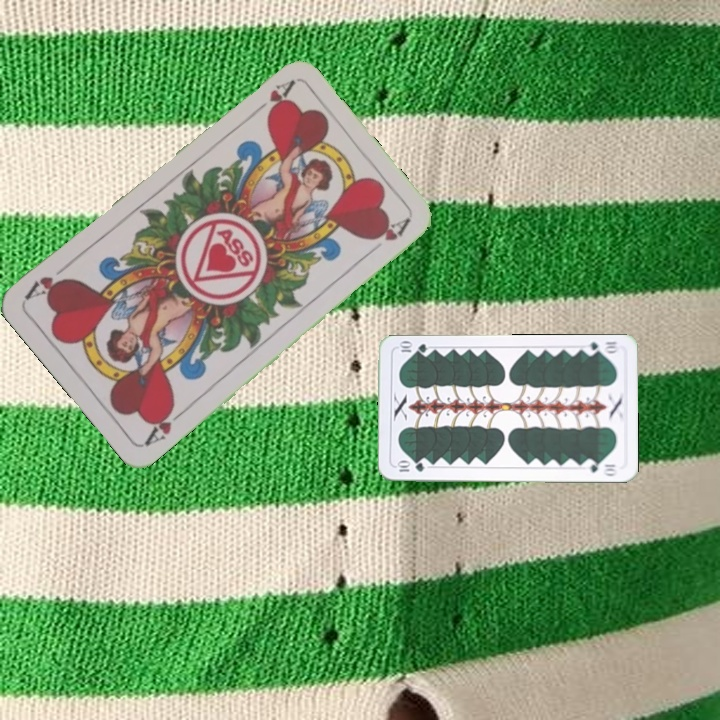G10: (581, 337, 621, 357), (393, 459, 427, 474)
HA: (140, 400, 190, 449), (246, 76, 296, 120)
